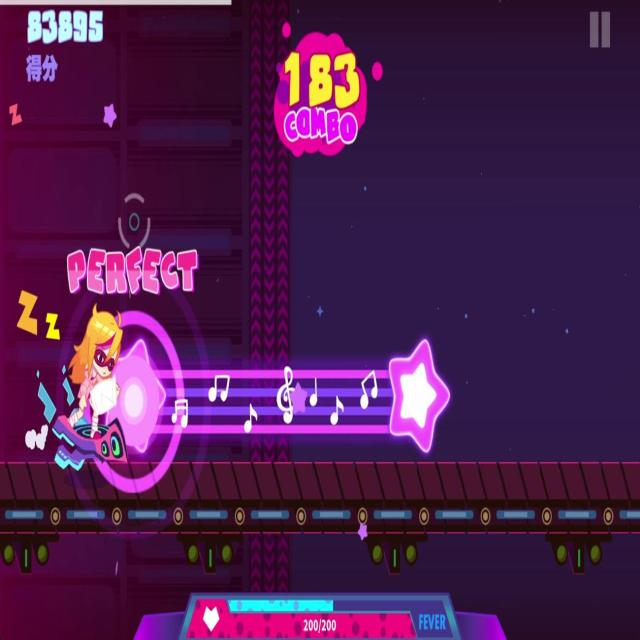hold: (113, 340, 453, 459)
